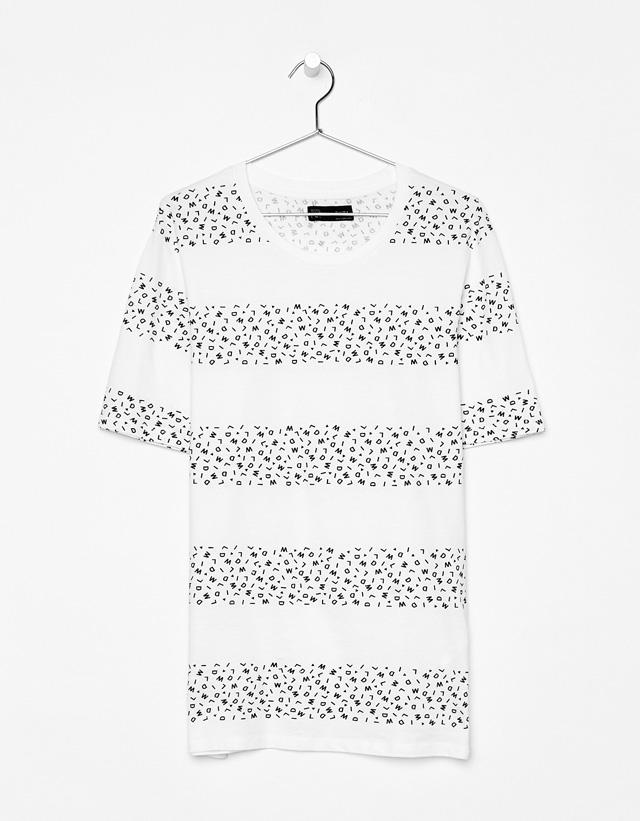teeshirt: (99, 156, 555, 786)
